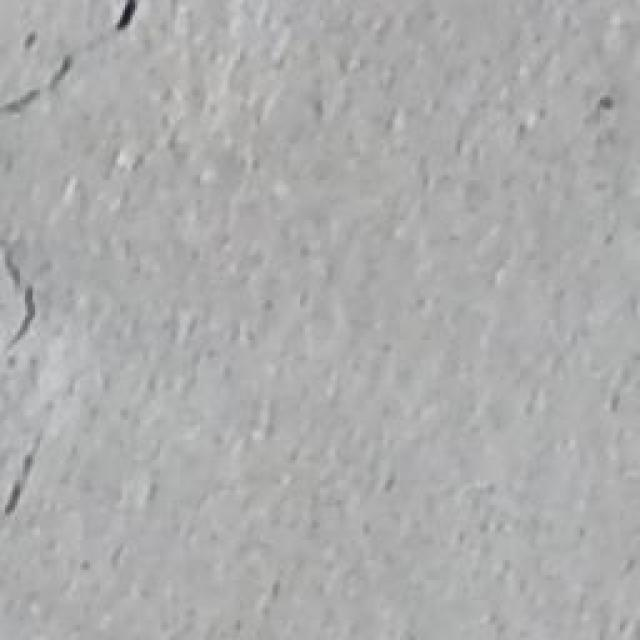concrete-crack: (0, 1, 148, 124), (0, 233, 42, 357)
